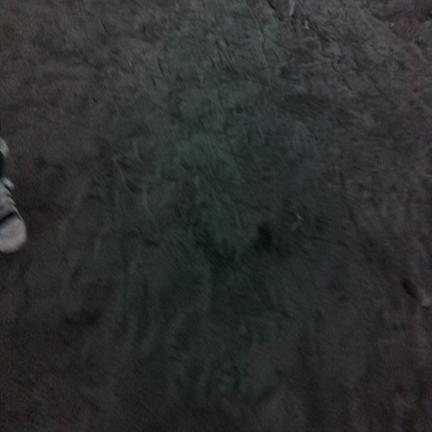Rock: (403, 279, 431, 308), (269, 0, 295, 16)
